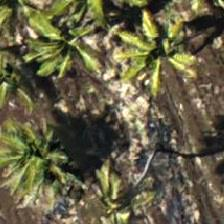Kelapa_Sawit: (123, 10, 213, 100), (0, 124, 82, 214), (10, 0, 100, 81), (78, 152, 169, 223)
